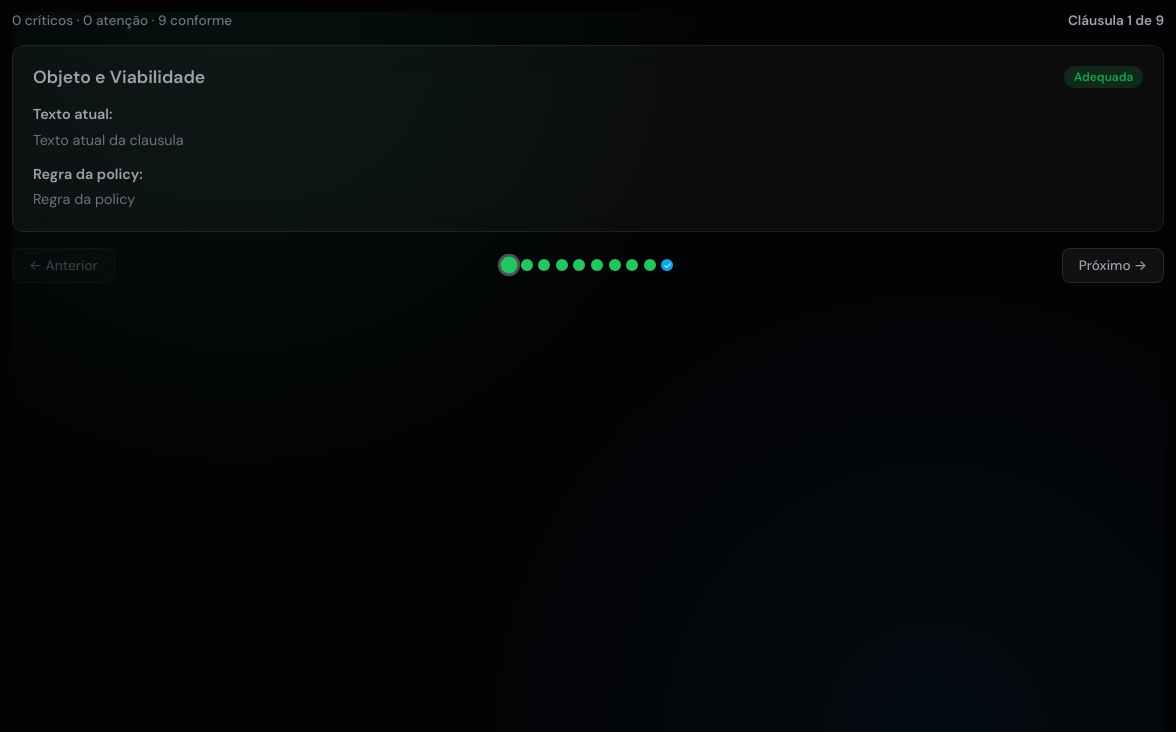
ClauseStepper › navigates to next clause with button
The image size is (1176, 732).
Click the button "Próximo →": coordinates (1113, 265) [1062,248,1164,283]
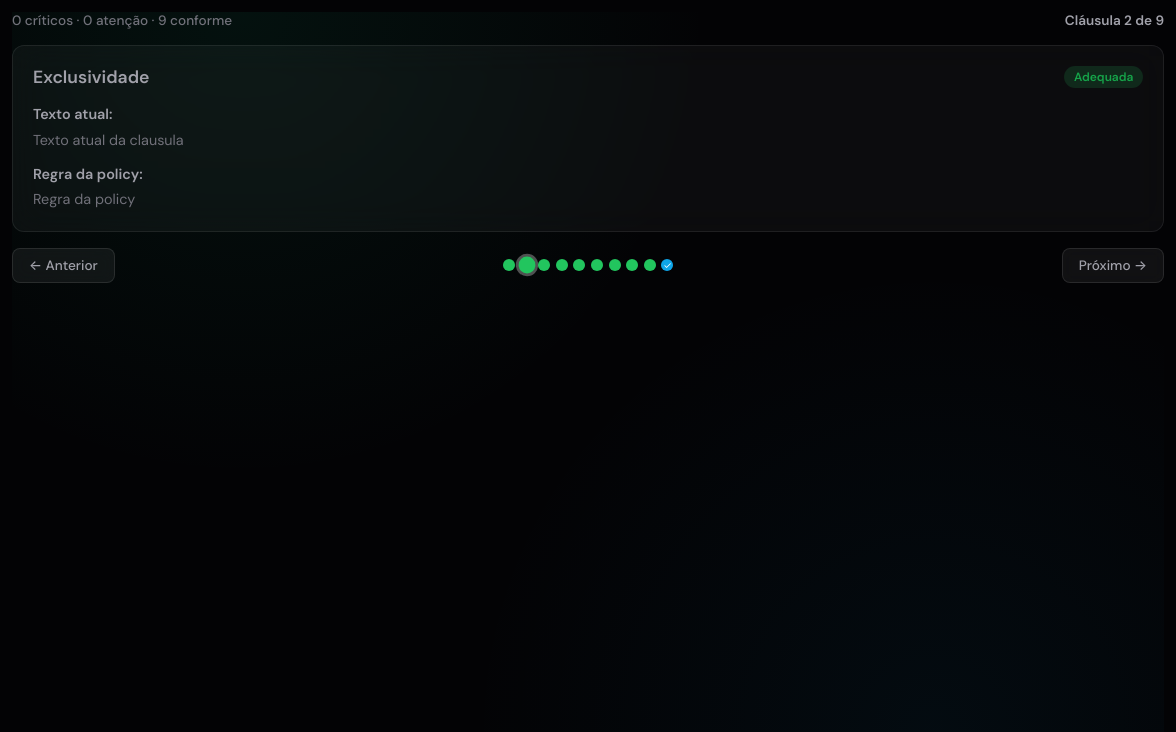
Now the text "Cláusula 2 de 9" is shown, box [1065,12,1164,29]
Now the heading "Exclusividade" is shown, box [33,66,150,88]
